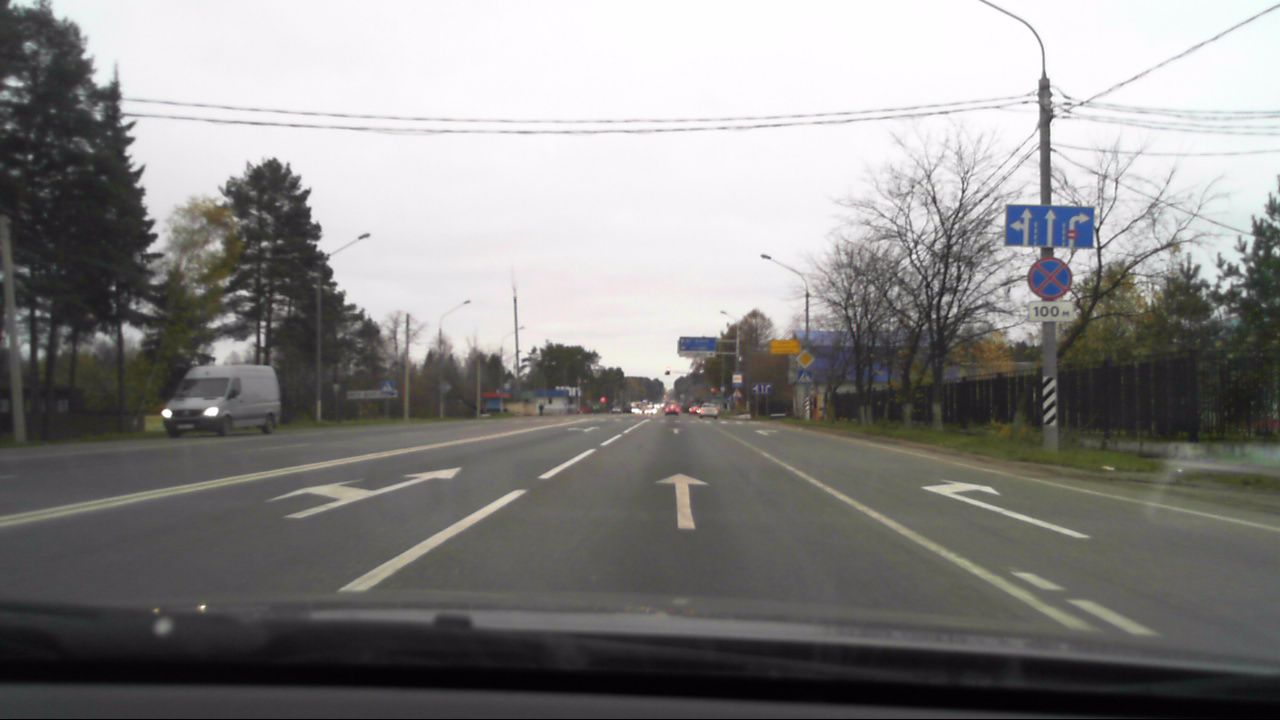No Parking: (1028, 257, 1072, 299)
